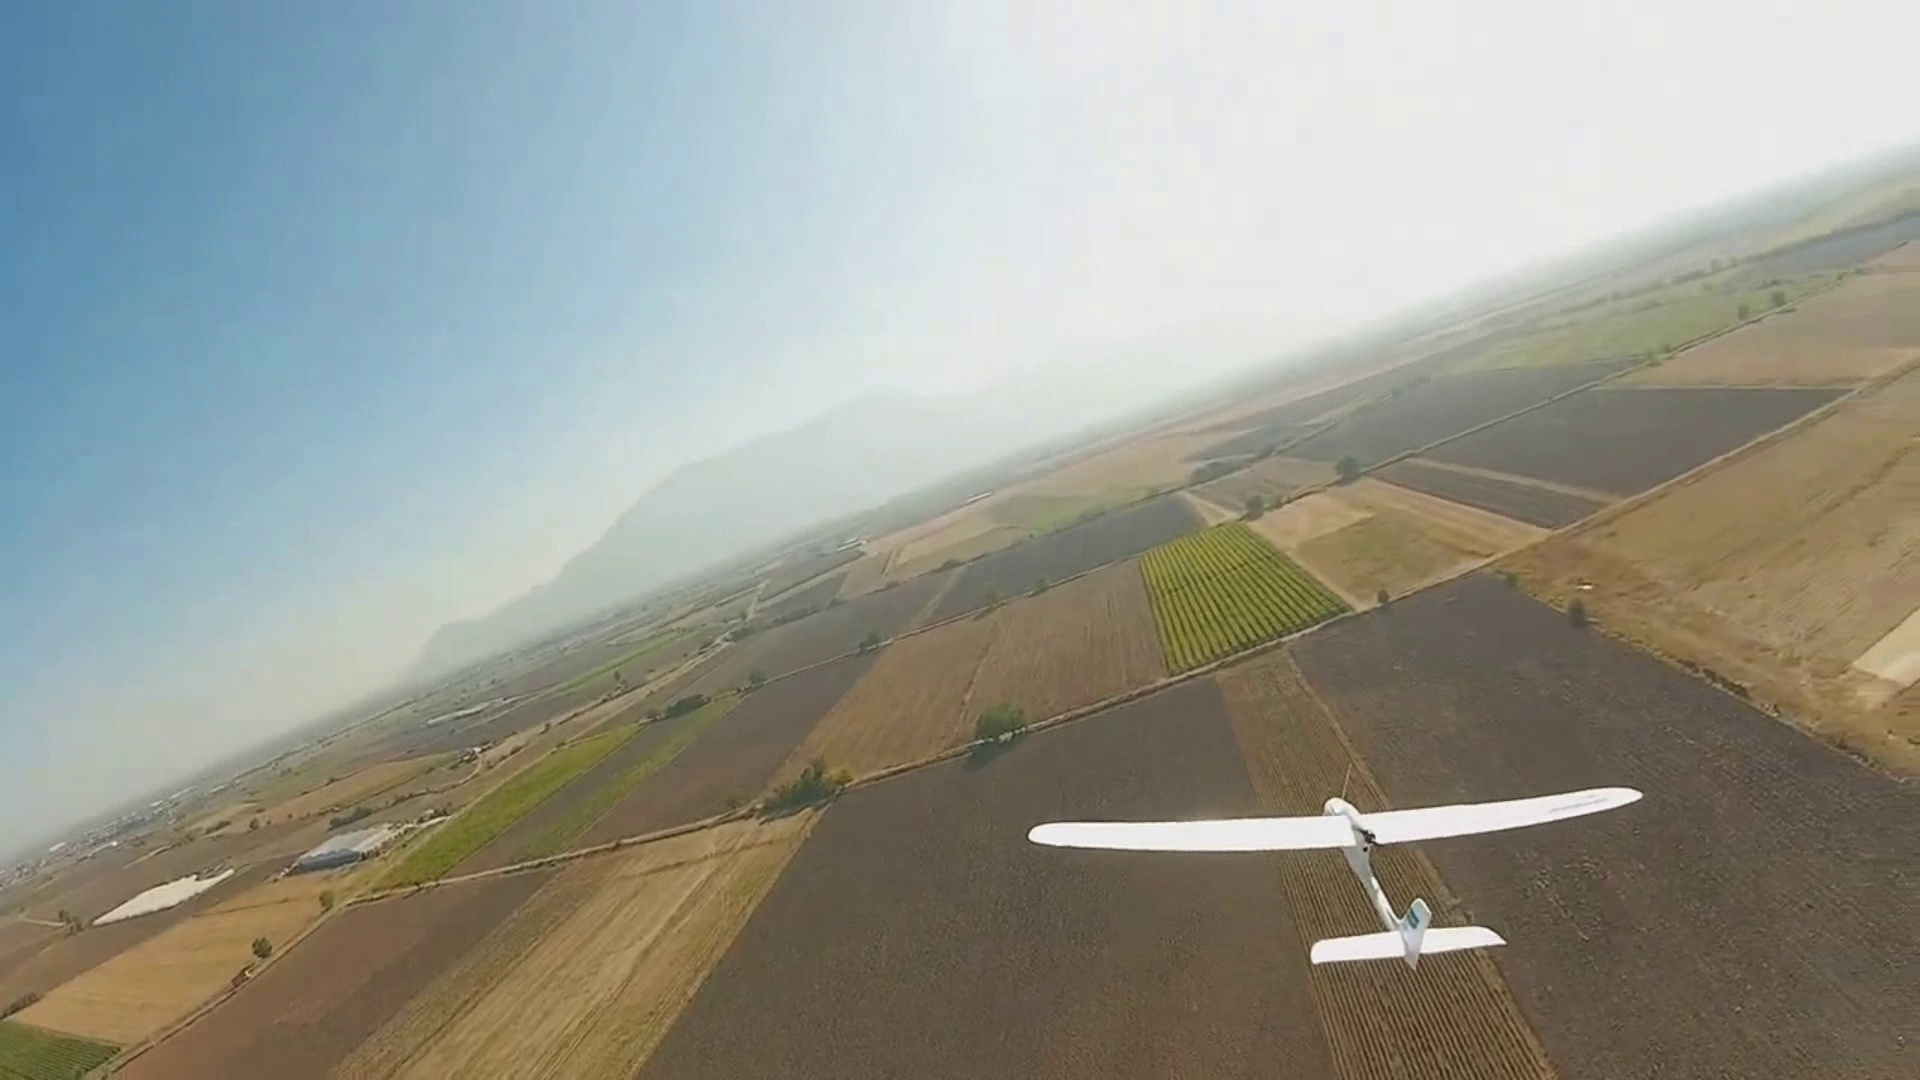airplane: (1027, 785, 1639, 964)
